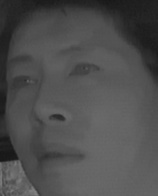eye: (65, 58, 103, 84), (9, 72, 38, 93)
mouth: (30, 140, 85, 172)
